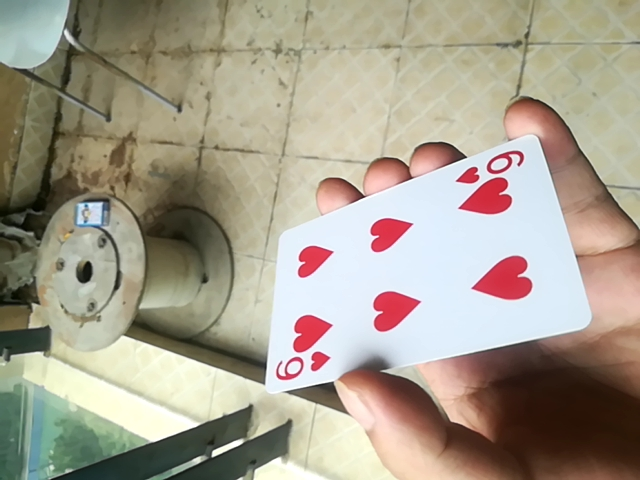hx 6: (263, 136, 592, 402)
